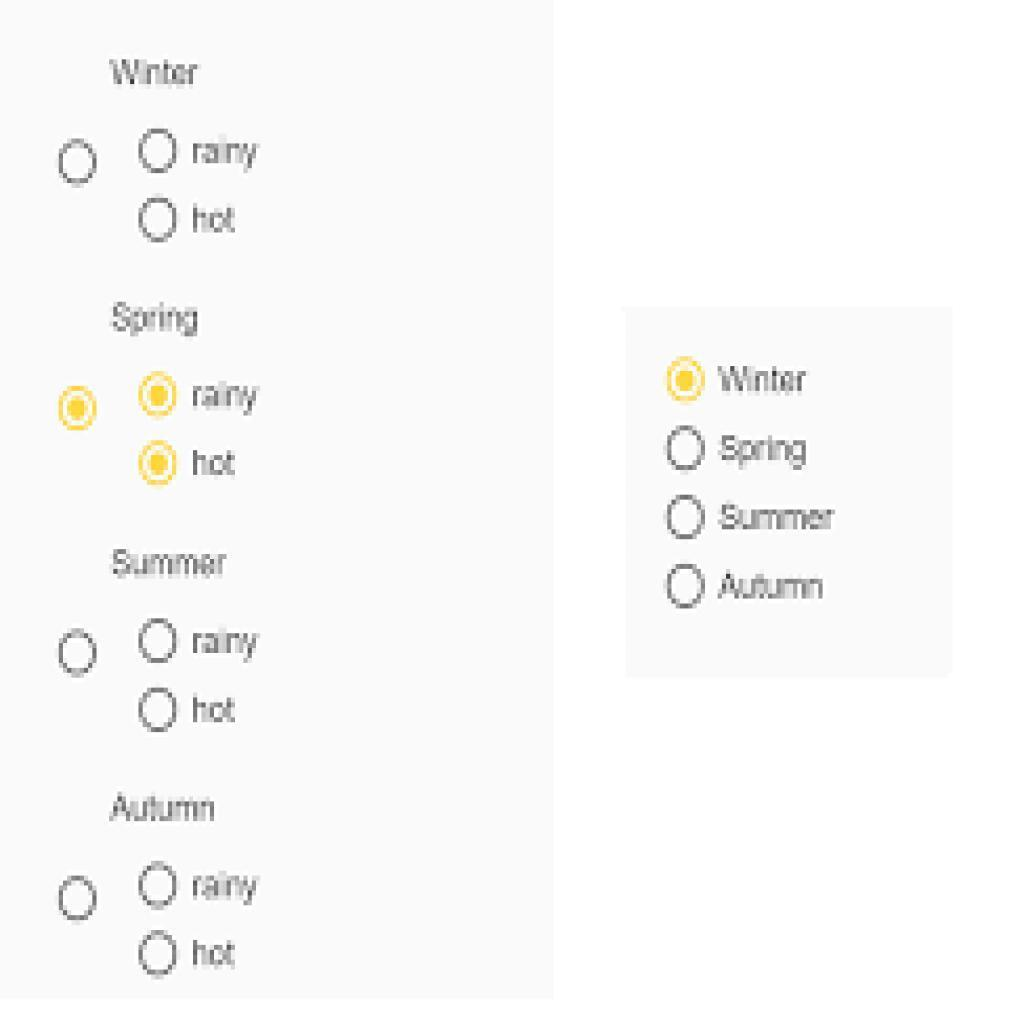radio: (134, 610, 190, 675), (132, 923, 186, 985), (52, 376, 106, 437), (132, 852, 183, 913), (663, 350, 712, 413), (53, 623, 105, 681), (662, 416, 710, 478), (57, 865, 101, 931), (663, 484, 709, 547), (664, 555, 710, 618), (60, 129, 103, 196), (132, 682, 181, 739), (134, 367, 183, 422), (134, 190, 180, 243), (136, 435, 180, 490), (136, 124, 181, 176)
